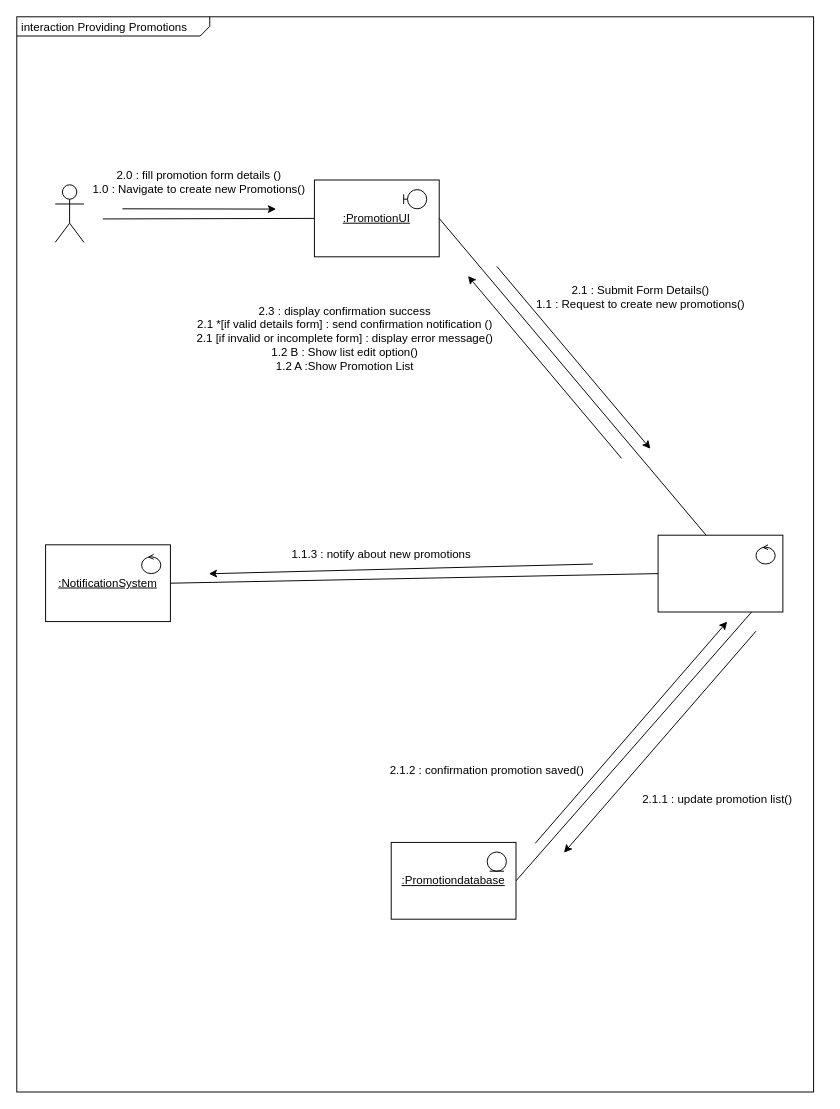
The diagram is 840 pixels wide and 1109 high, and some of its shapes have lost their labels. The box of each missing label's shape, as (x1, y1, x2, y2) in pixels:
:PromotionControl: (657, 534, 783, 612)
Hotel Manager: (54, 184, 84, 242)
